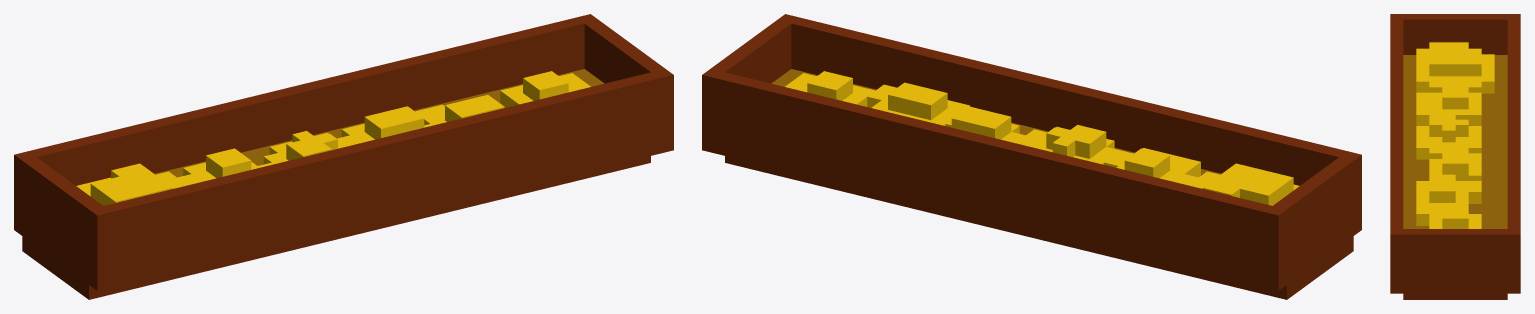
The model's file is feedingBox.obj.
3 renders of one model, left to right at view 1: azimuth 30°, elevation 25°; view 2: azimuth 150°, elevation 25°; view 3: azimuth 270°, elevation 25°, orthographic. The views are drawn at different scales.
Size of the model in its own units: 40 by 6 by 10.
1 material, 1 textured.
